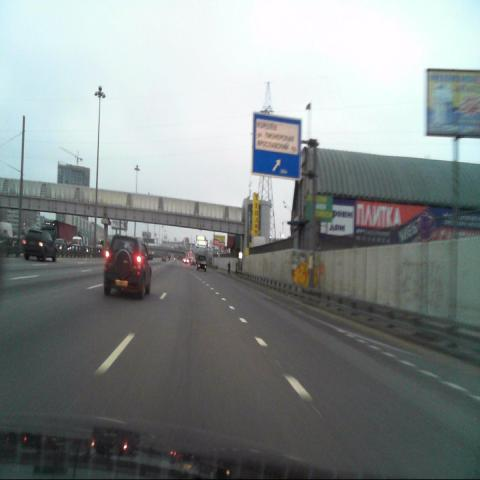3_27: (418, 214, 432, 240)
